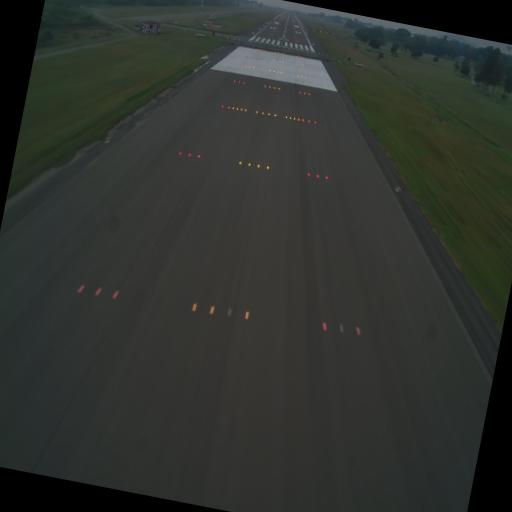off: (225, 302, 236, 320), (336, 320, 348, 336), (391, 182, 402, 197), (102, 135, 111, 148)
on: (74, 281, 88, 298), (320, 316, 332, 335), (110, 286, 121, 304), (206, 303, 217, 320), (353, 325, 365, 340), (241, 310, 252, 324), (94, 284, 104, 298), (190, 302, 200, 316), (194, 150, 204, 162), (187, 149, 193, 161), (314, 170, 320, 182), (177, 148, 184, 158), (322, 174, 328, 183), (264, 164, 270, 172), (246, 161, 252, 168), (238, 158, 242, 168), (256, 164, 261, 172), (306, 170, 311, 178)
